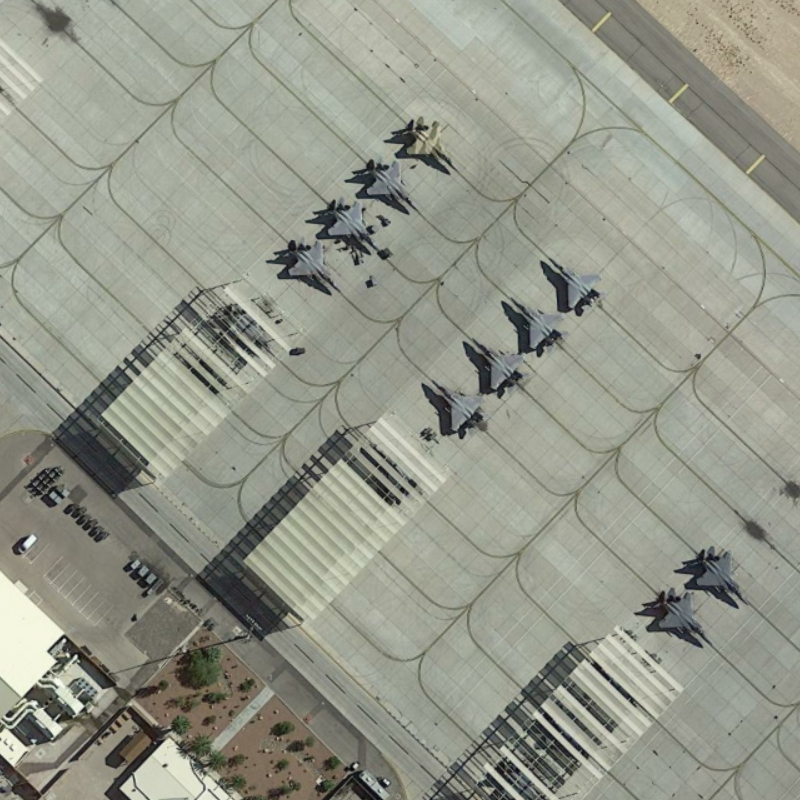A13: (652, 585, 718, 650), (688, 545, 754, 608), (278, 236, 346, 296), (505, 293, 568, 357), (397, 113, 462, 175), (467, 335, 532, 395), (544, 253, 606, 314), (427, 376, 488, 436), (321, 195, 381, 253), (360, 159, 420, 214)
